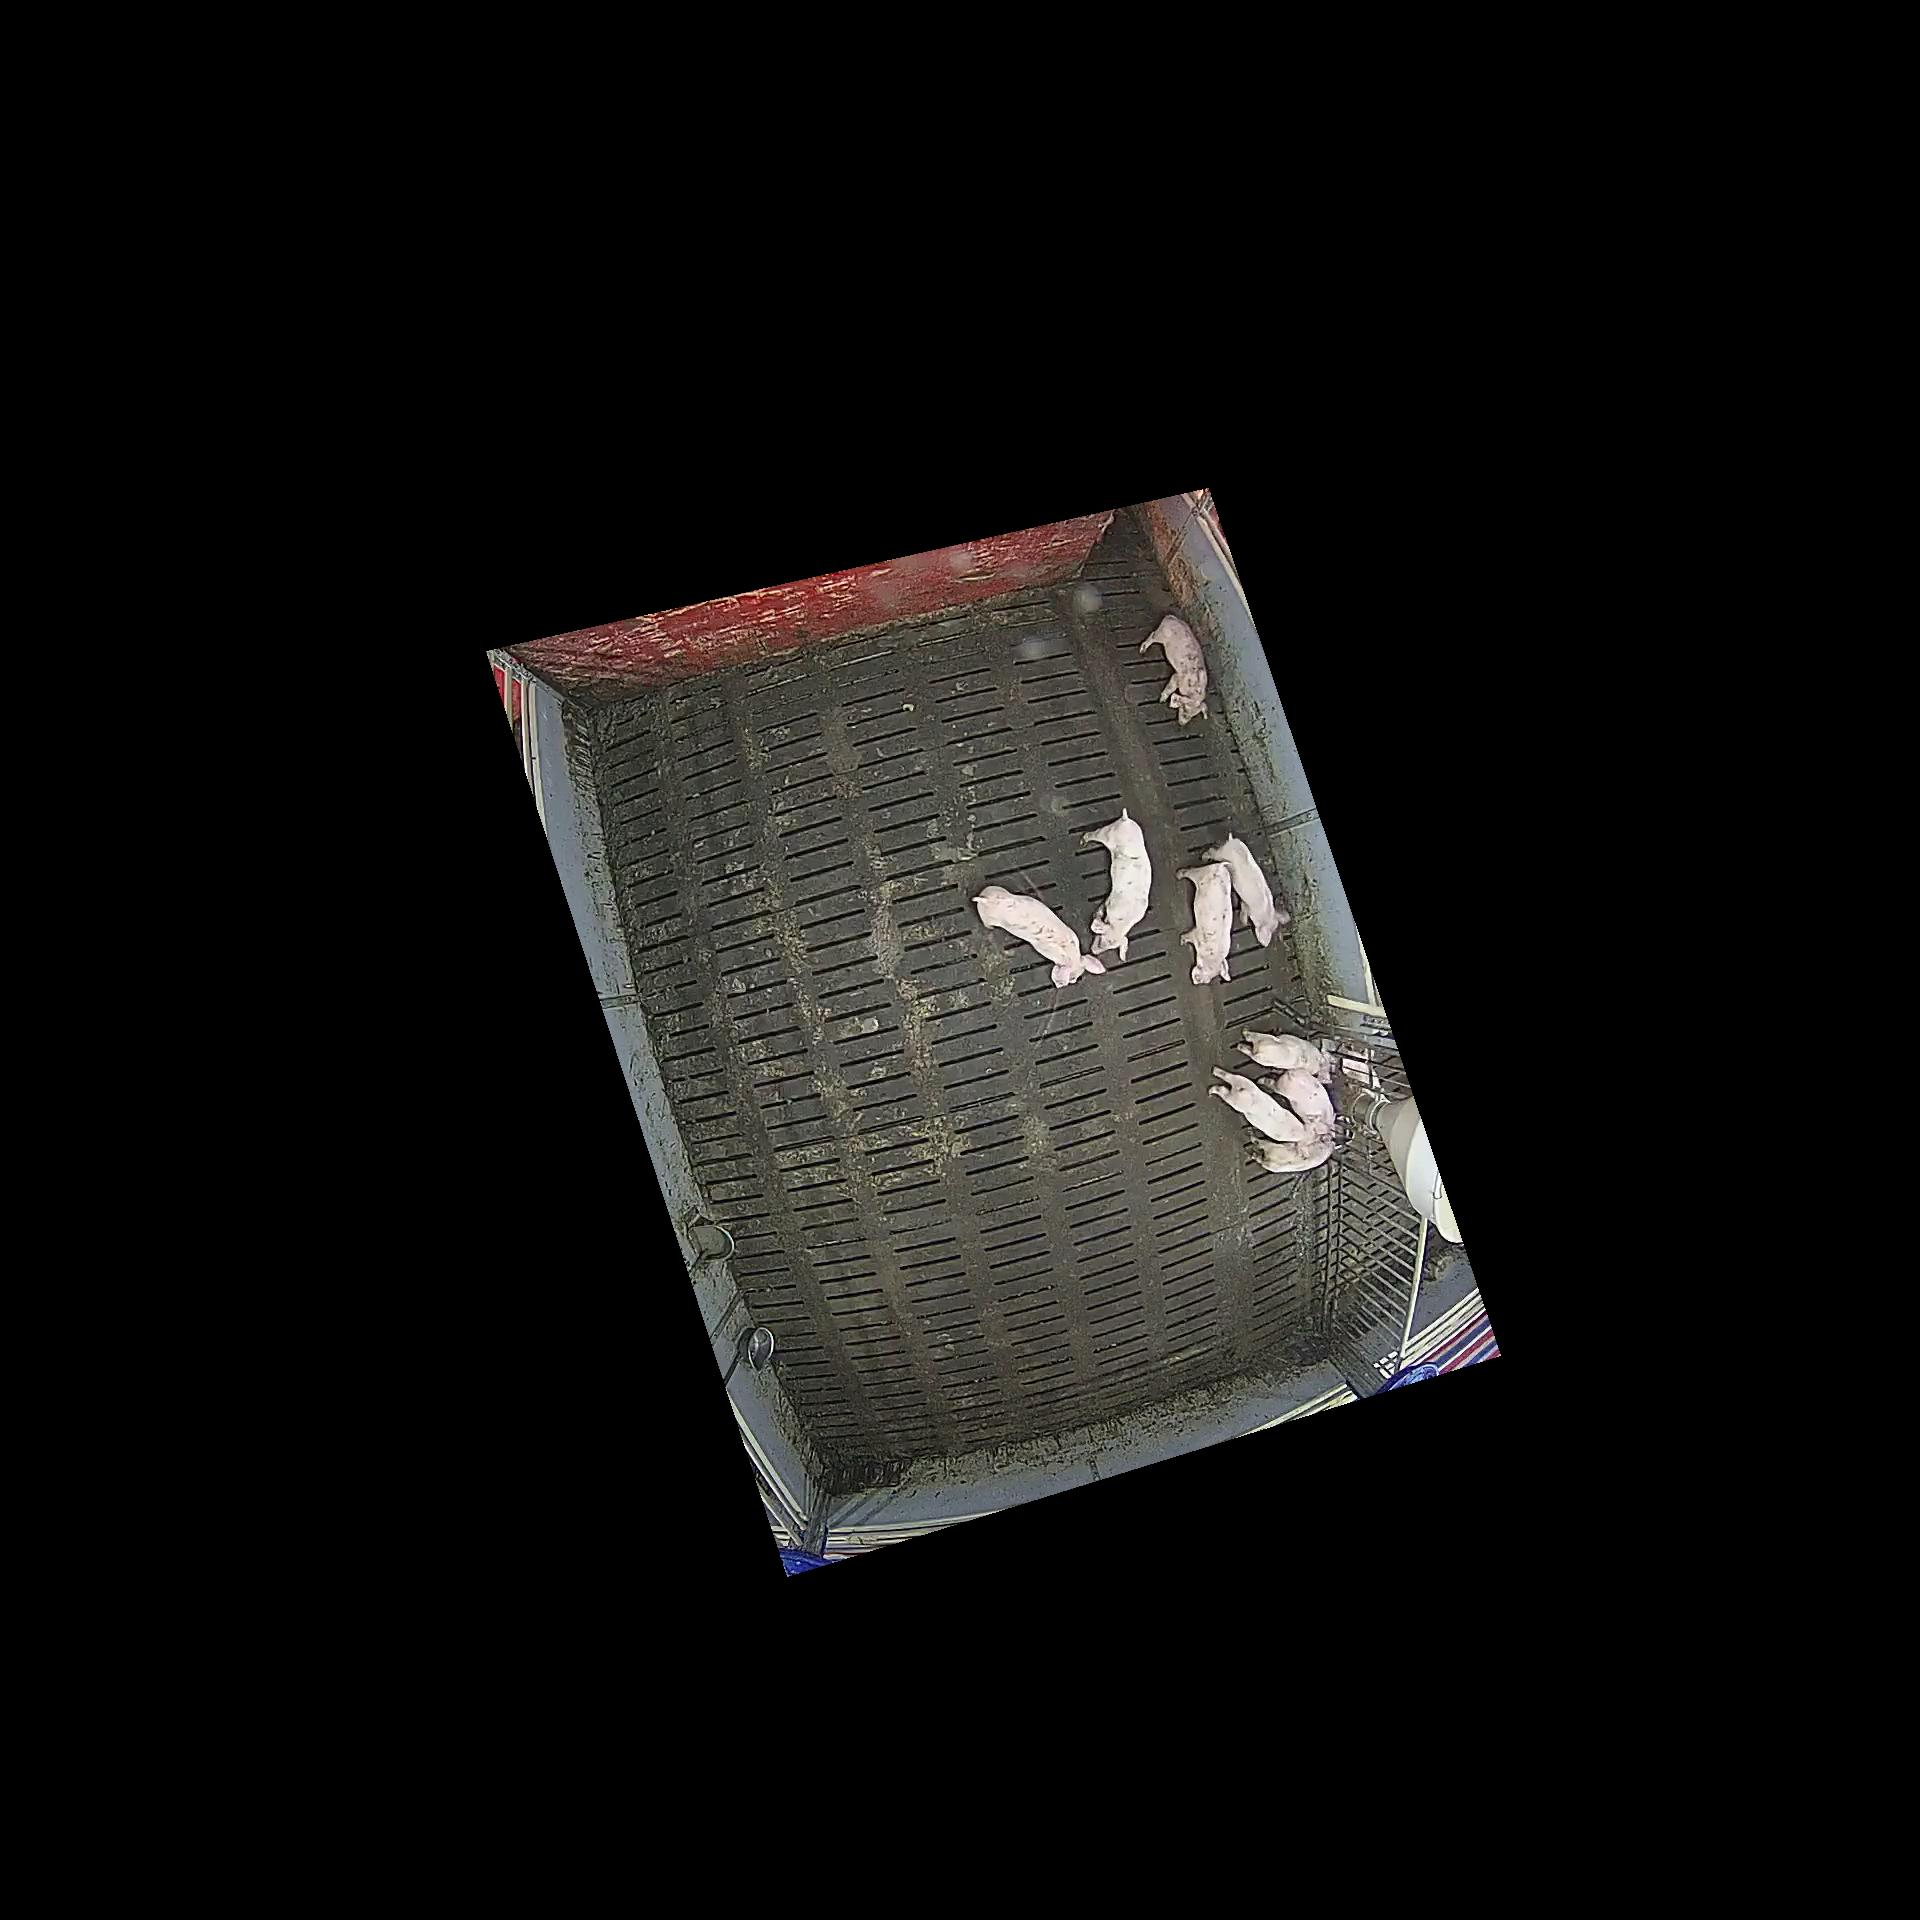pig: (972, 886, 1104, 990), (1081, 807, 1153, 964), (1203, 833, 1292, 948), (1208, 1065, 1336, 1143), (1141, 614, 1208, 726), (1178, 860, 1233, 985), (1236, 1027, 1333, 1083), (1257, 1069, 1338, 1129), (1247, 1134, 1335, 1175)
